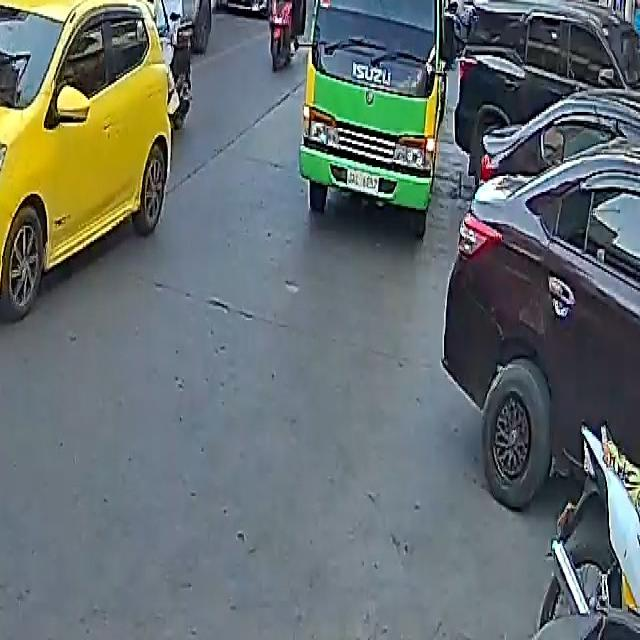car: (445, 55, 640, 533), (0, 0, 178, 316), (451, 0, 640, 187), (82, 0, 202, 7), (219, 0, 284, 12)
